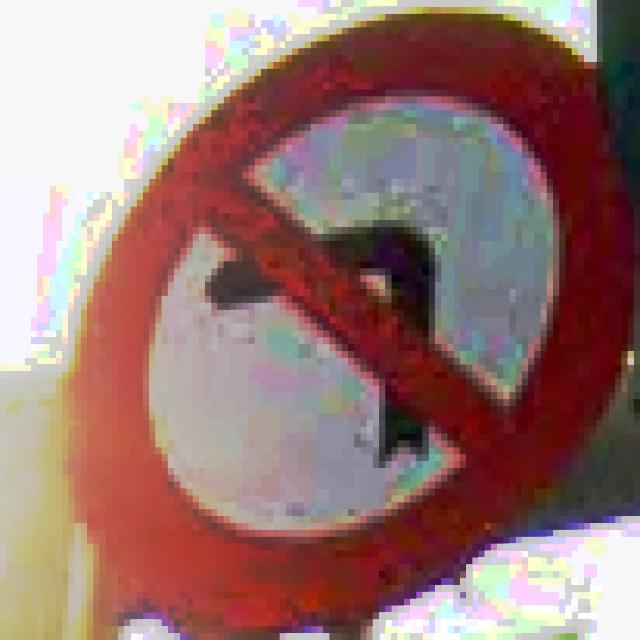noturnleft: (56, 0, 634, 633)
